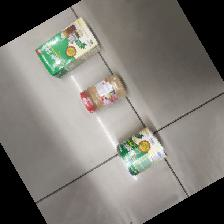Hao_hao: (79, 72, 130, 117)
NSPN_Hop: (34, 17, 101, 78)
NSPN_Lon: (116, 125, 167, 179)
